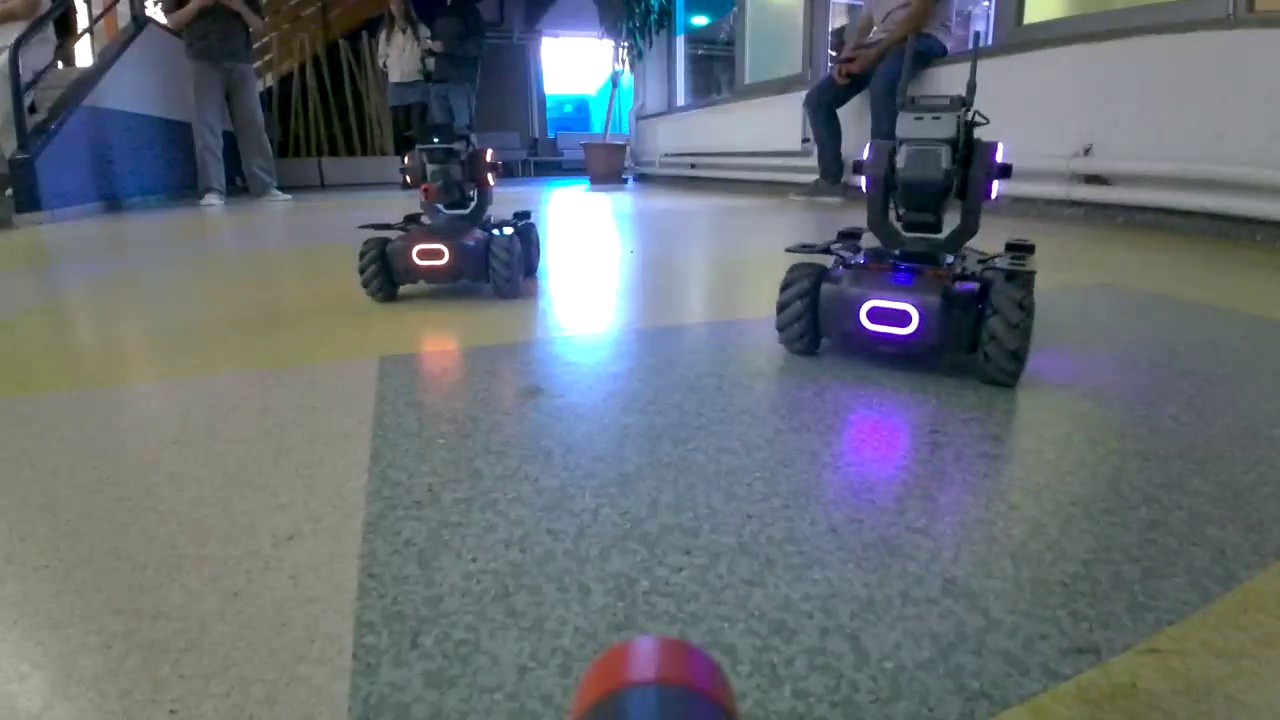robot: (772, 108, 1052, 392), (358, 134, 536, 290)
